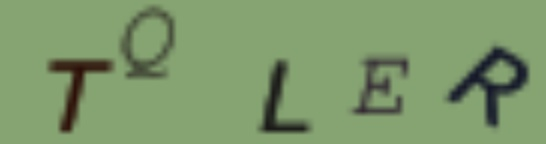E: (350, 52, 413, 118)
L: (258, 54, 314, 134)
Q: (118, 3, 177, 82)
R: (443, 42, 532, 132)
T: (40, 56, 118, 135)
